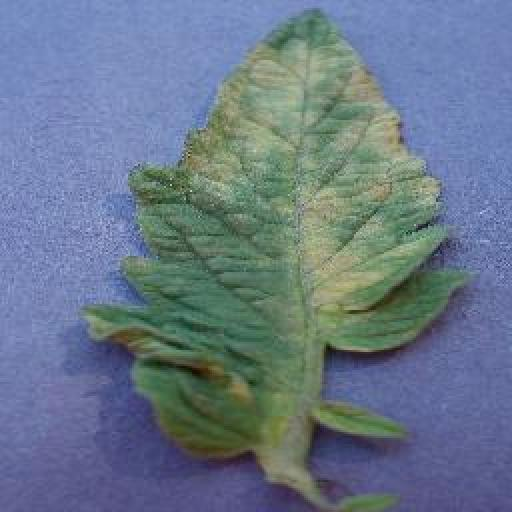disease_tomato: (80, 5, 470, 463)
